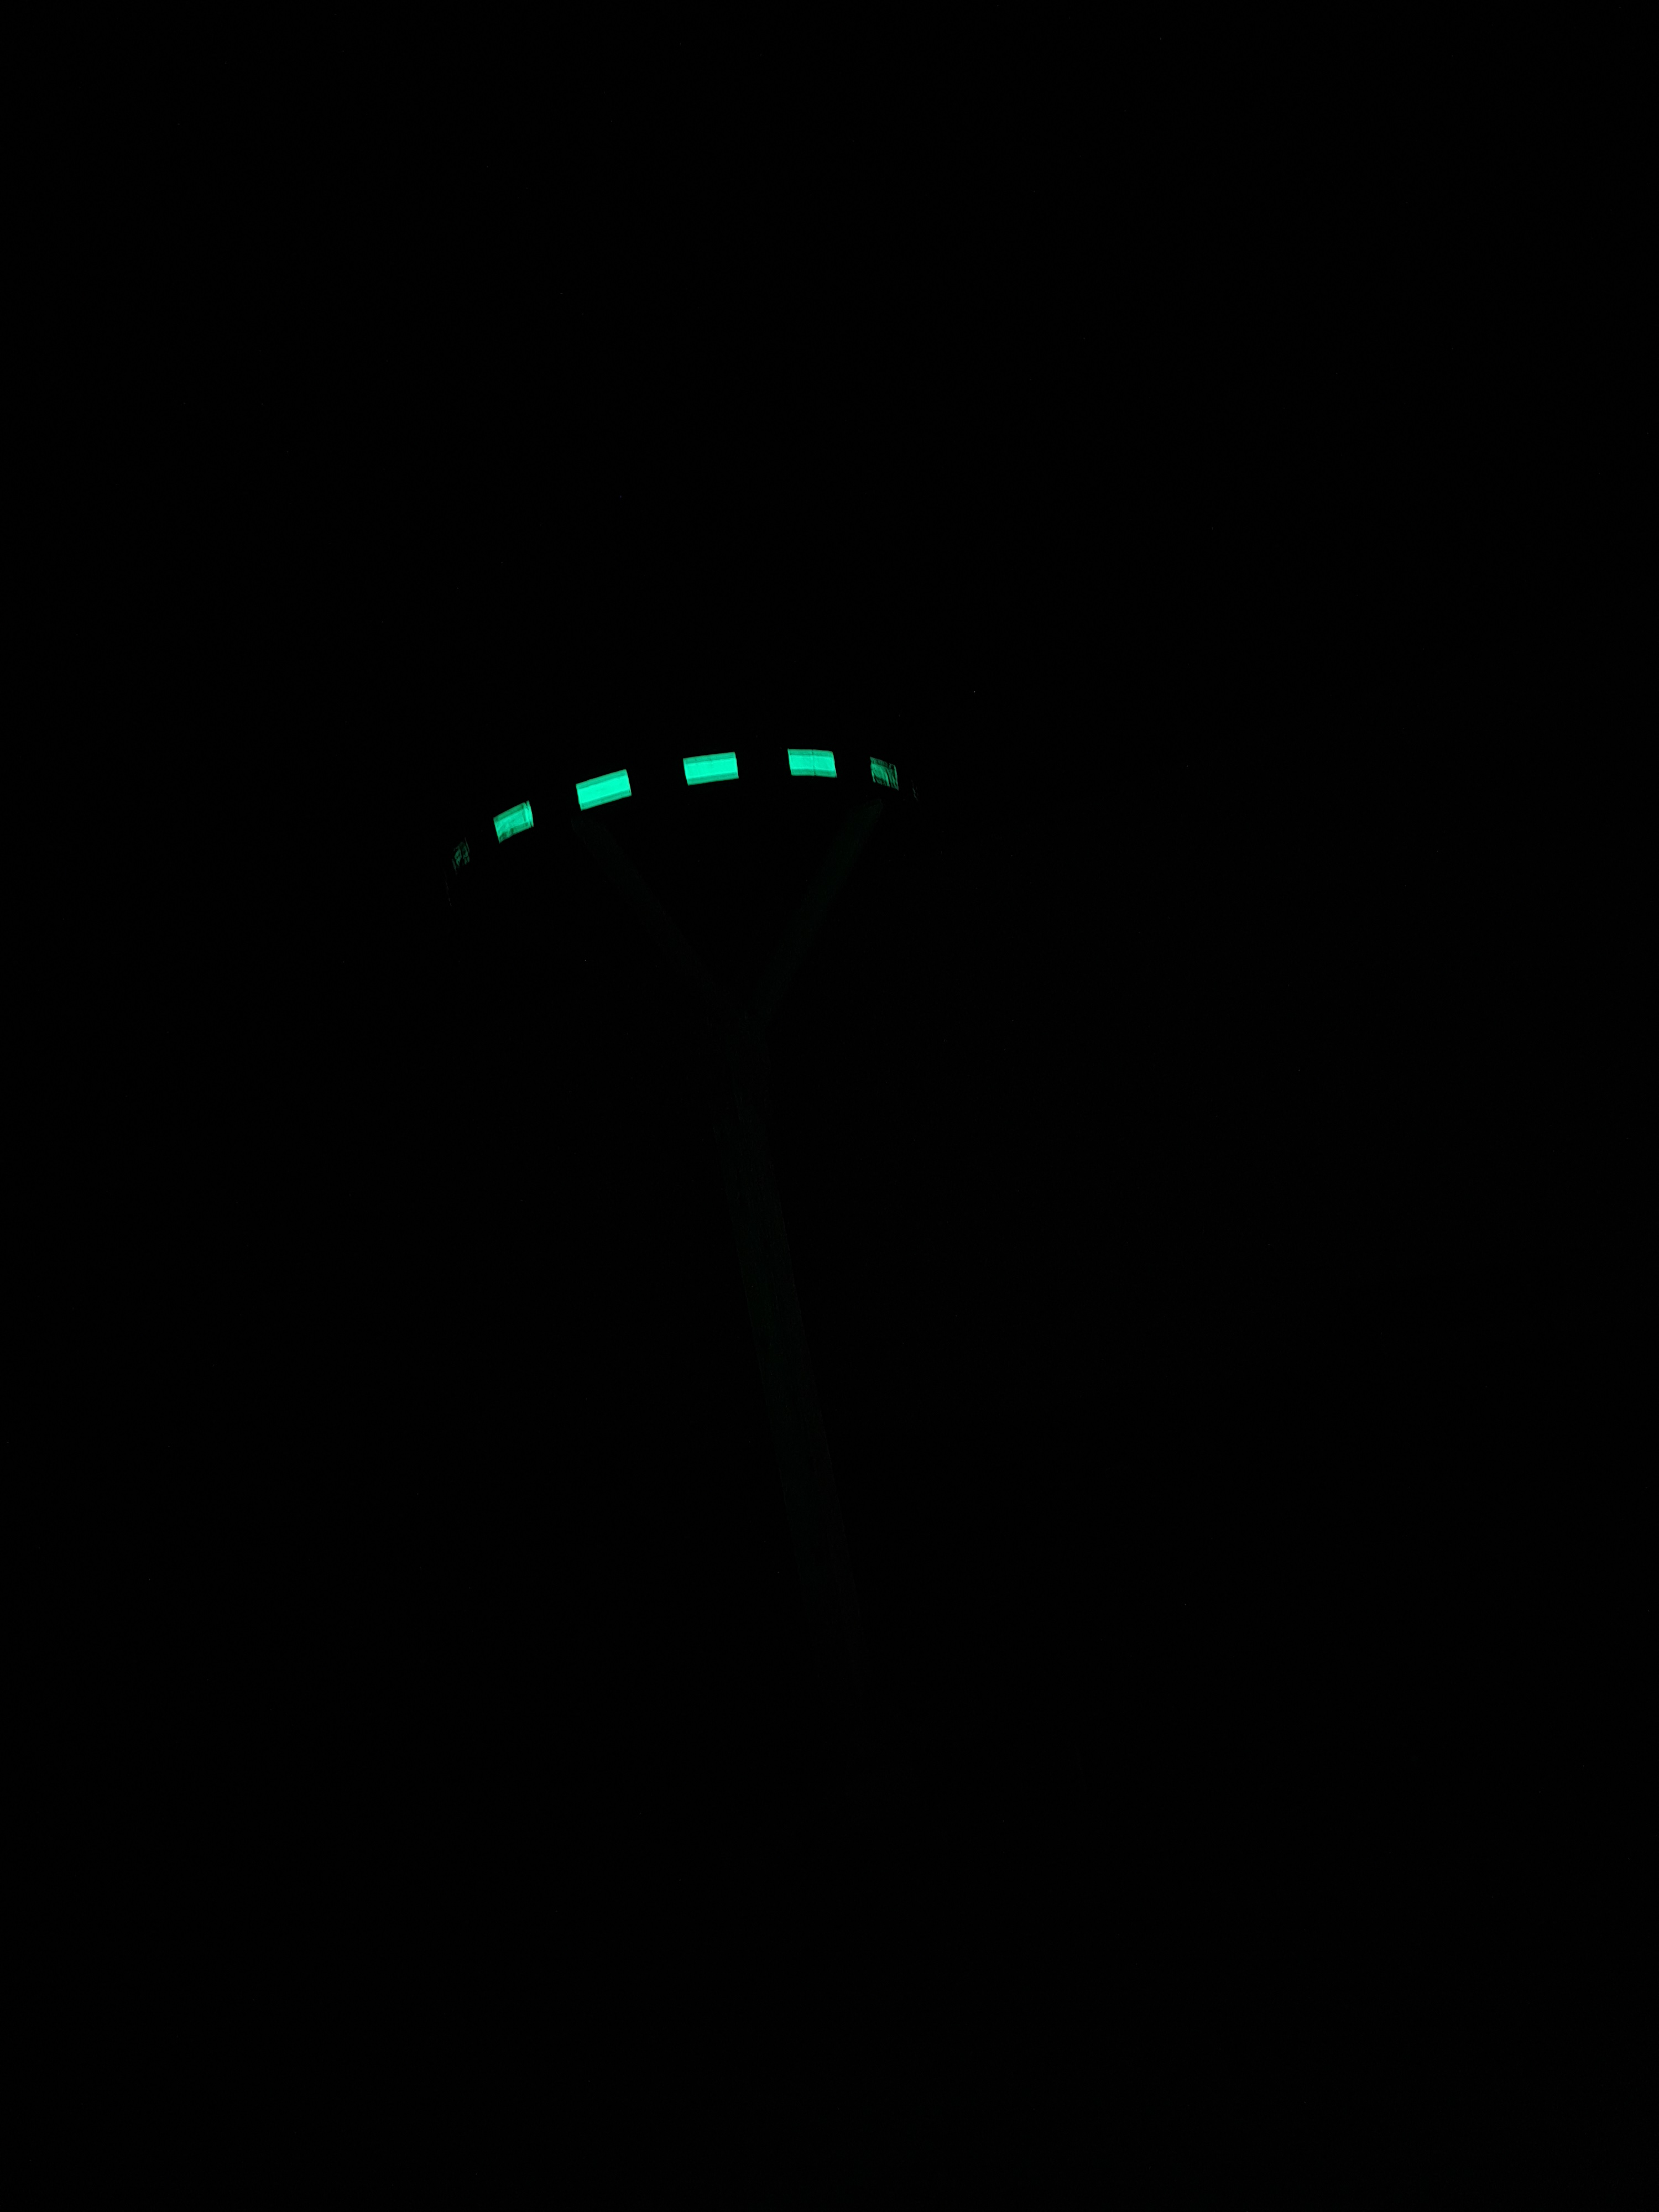hoop: (488, 737, 906, 848)
